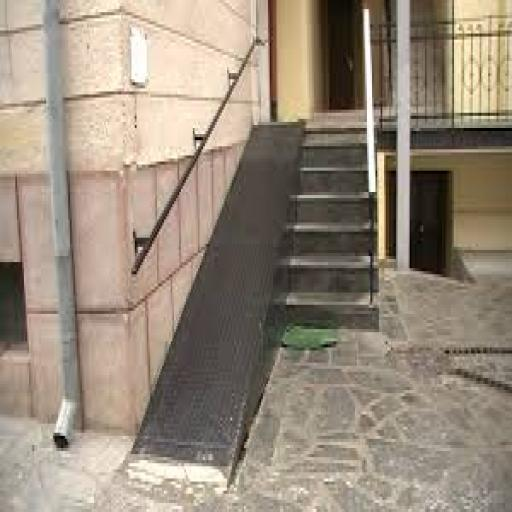ramp: (126, 122, 304, 472)
stairs: (284, 123, 380, 334)
